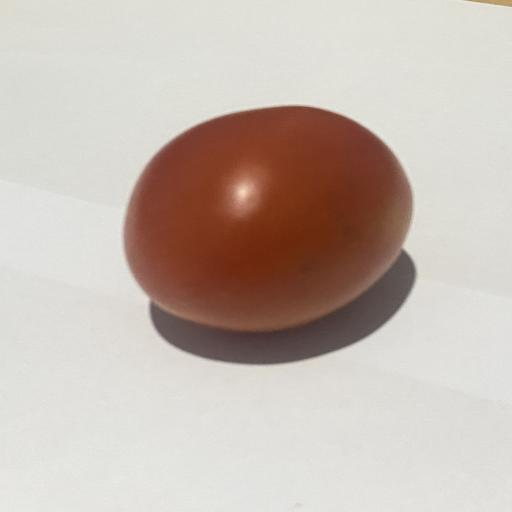ripe: (124, 106, 412, 331)
